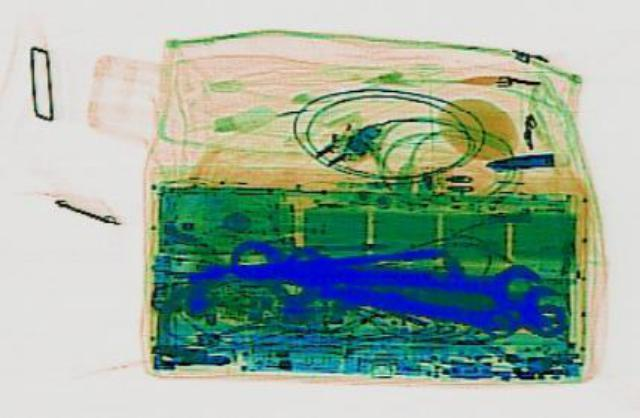Wrench: (227, 229, 549, 307)
